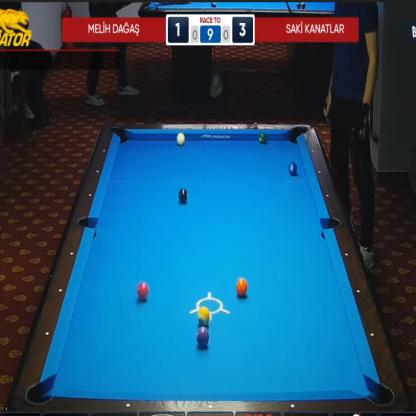Ball: (196, 327, 209, 348), (197, 306, 210, 325), (236, 277, 248, 297), (137, 282, 149, 300), (178, 188, 188, 203), (176, 132, 185, 145), (288, 162, 297, 175), (258, 132, 266, 144)
